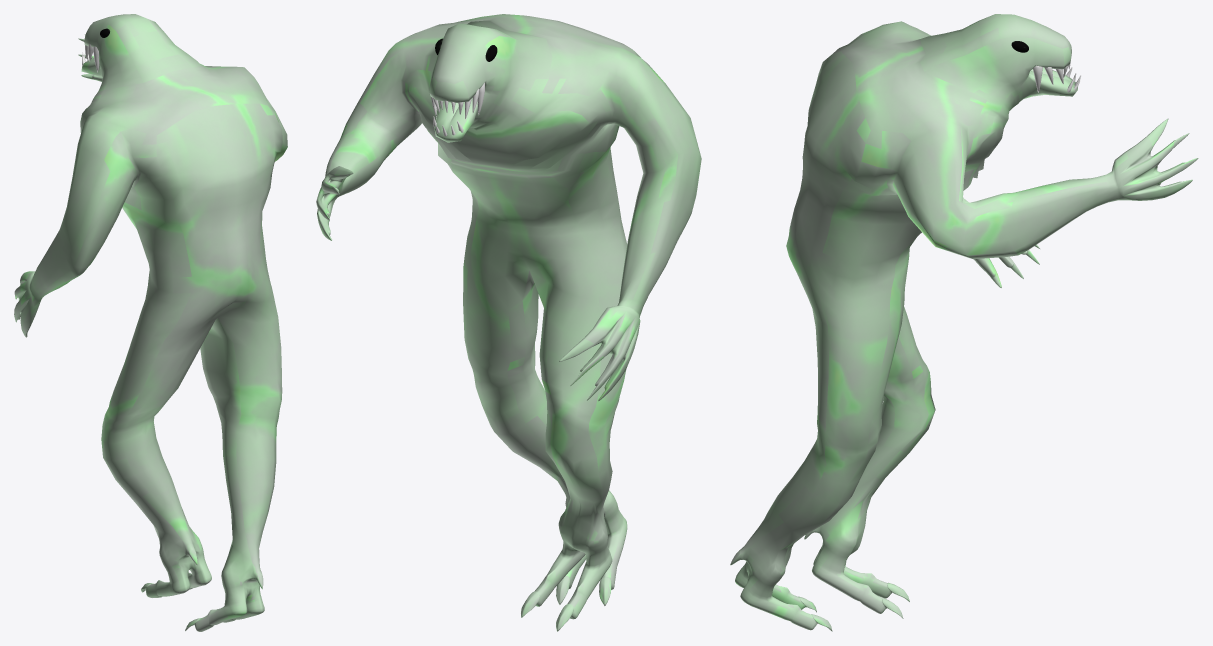
Rendered from Berserkercorrer.0061.obj.
The picture shows the model from 3 angles, left to right: view 1: azimuth 30°, elevation 25°; view 2: azimuth 150°, elevation 25°; view 3: azimuth 270°, elevation 25°; orthographic projection. The views are drawn at different scales.
Parts seen in each view (by area): view 1: polySurface27; view 2: polySurface27; view 3: polySurface27.
Part boxes in pixels (box(x1,y1,x2,y2)): polySurface27: box(14, 14, 287, 631); polySurface27: box(316, 14, 701, 631); polySurface27: box(730, 14, 1198, 631).
Size of the model in its own units: 11.24 by 23.35 by 16.2.
Materials: 1 (1 with a texture image).
